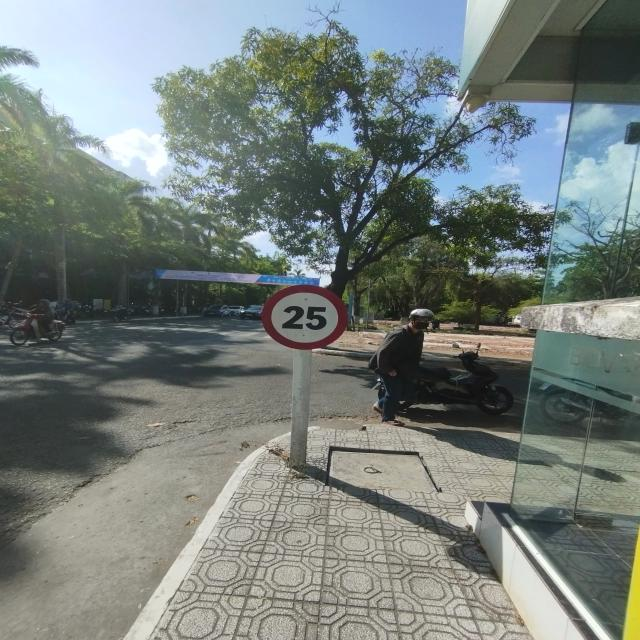Tre_Em: (260, 284, 348, 350)
